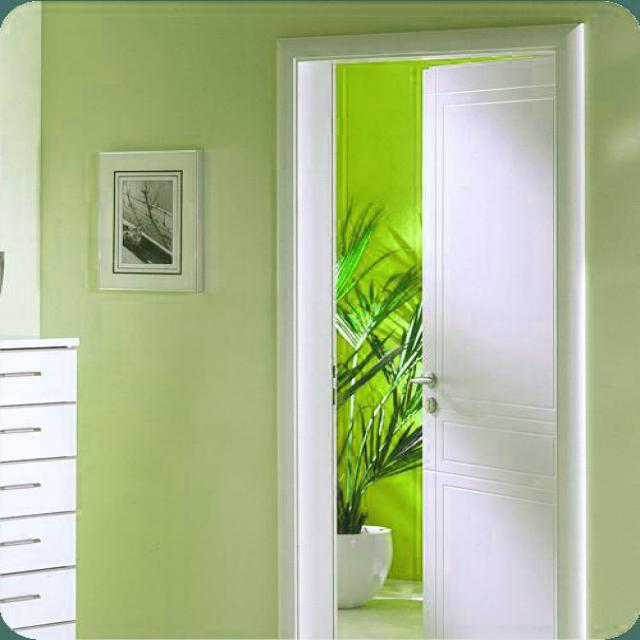door: (264, 19, 598, 639)
